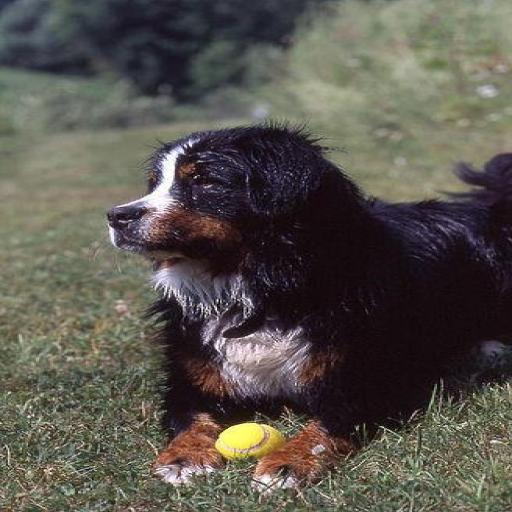dog_face: (109, 126, 322, 254)
